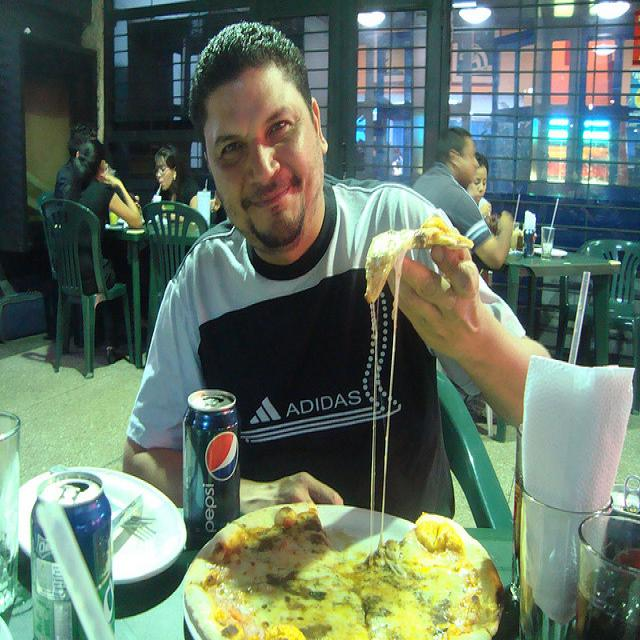chair: (40, 199, 135, 378), (435, 367, 513, 532), (142, 201, 208, 352)
dining table: (0, 357, 640, 640), (104, 223, 200, 370), (506, 251, 621, 367), (504, 248, 621, 267)
